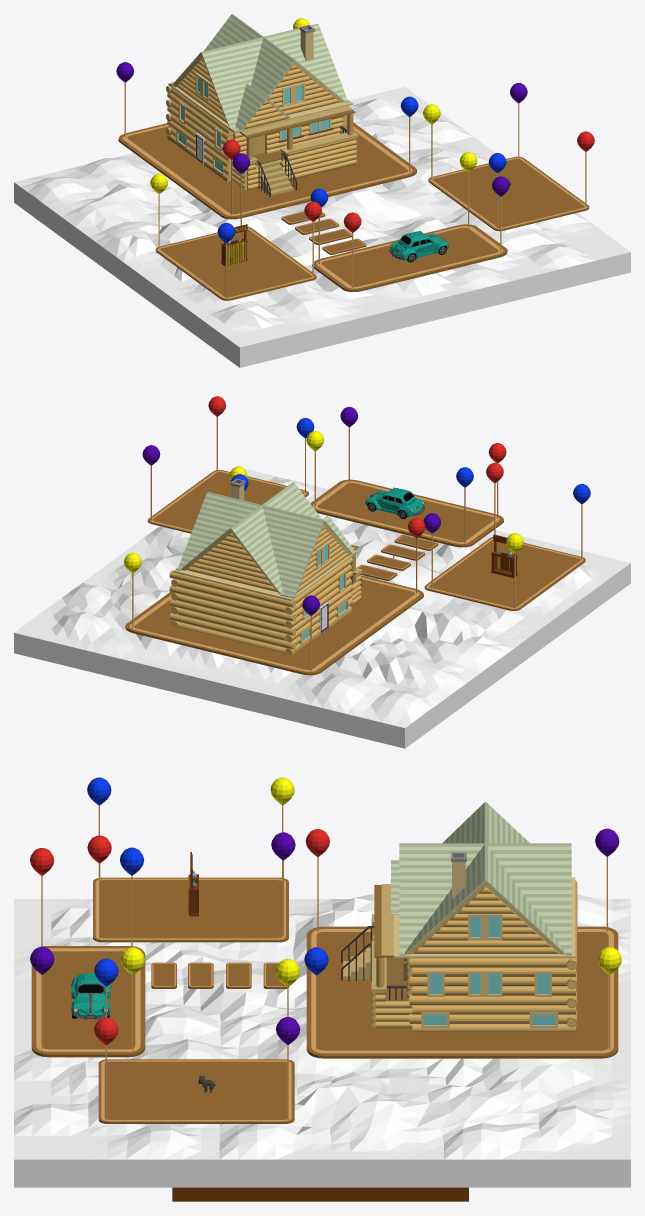
3 views of the same model, one above another, from view 1: azimuth 30°, elevation 25°; view 2: azimuth 150°, elevation 25°; view 3: azimuth 270°, elevation 25° (orthographic). The views are drawn at different scales.
Visible parts, largest first — view 1: Cube.013, Cube.1516, VEHICLES_VOLKSWAGEN, OBJRANDOM_LEMONADE_STAND; view 2: Cube.013, Cube.1516, VEHICLES_VOLKSWAGEN, OBJRANDOM_LEMONADE_STAND; view 3: Cube.013, Cube.1516, UNDERGROUND_ART_PIECE_VAN_GOGH, VEHICLES_VOLKSWAGEN.
Part boxes in pixels (x1,y1,x2,y2): Cube.013: [14, 18, 630, 367]; Cube.1516: [166, 14, 358, 196]; VEHICLES_VOLKSWAGEN: [389, 231, 449, 262]; OBJRANDOM_LEMONADE_STAND: [221, 224, 247, 265]; Cube.013: [14, 396, 630, 748]; Cube.1516: [169, 478, 362, 654]; VEHICLES_VOLKSWAGEN: [365, 487, 424, 518]; OBJRANDOM_LEMONADE_STAND: [491, 534, 517, 577]; Cube.013: [14, 777, 630, 1187]; Cube.1516: [341, 802, 577, 1032]; UNDERGROUND_ART_PIECE_VAN_GOGH: [172, 1187, 468, 1201]; VEHICLES_VOLKSWAGEN: [71, 973, 110, 1019].
Size of the model in its own units: 4000 by 1813 by 4000.
41 materials, 3 textured.
